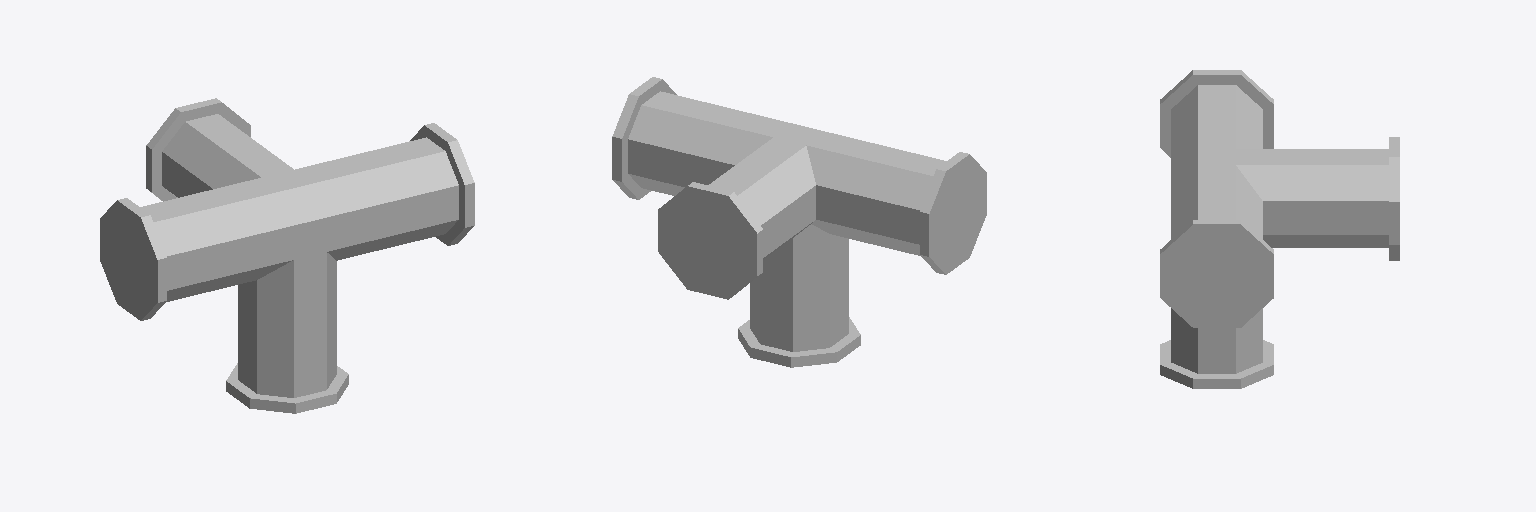
Rendered from pipeworks_pipe_7_lowpoly.obj.
The picture shows the model from 3 angles: view 1: azimuth 30°, elevation 25°; view 2: azimuth 150°, elevation 25°; view 3: azimuth 270°, elevation 25°; orthographic projection.
Visible parts, largest first — view 1: Cylinder.002_Cylinder.006_None.002; view 2: Cylinder.002_Cylinder.006_None.002; view 3: Cylinder.002_Cylinder.006_None.002.
Part boxes in pixels (x1,y1,x2,y2): Cylinder.002_Cylinder.006_None.002: (100,98,474,413); Cylinder.002_Cylinder.006_None.002: (612,77,986,367); Cylinder.002_Cylinder.006_None.002: (1160,70,1399,388).
Bounding box in the file's own units: 1 × 0.6562 × 0.6562.